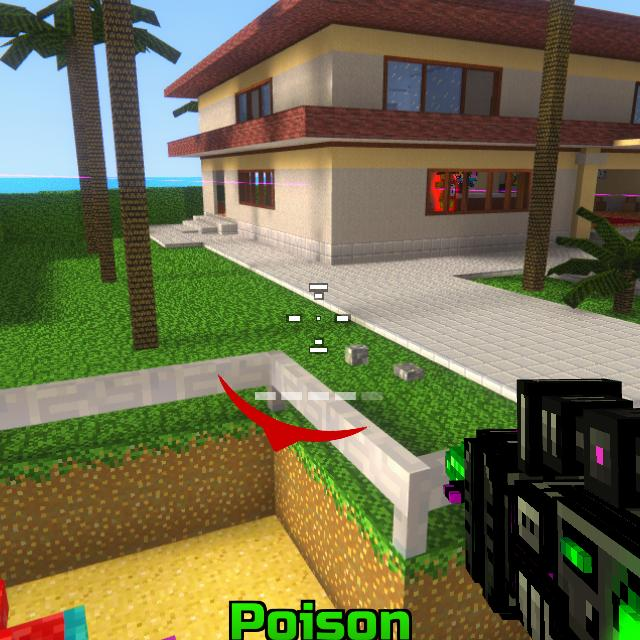Enemy: (435, 172, 458, 209)
